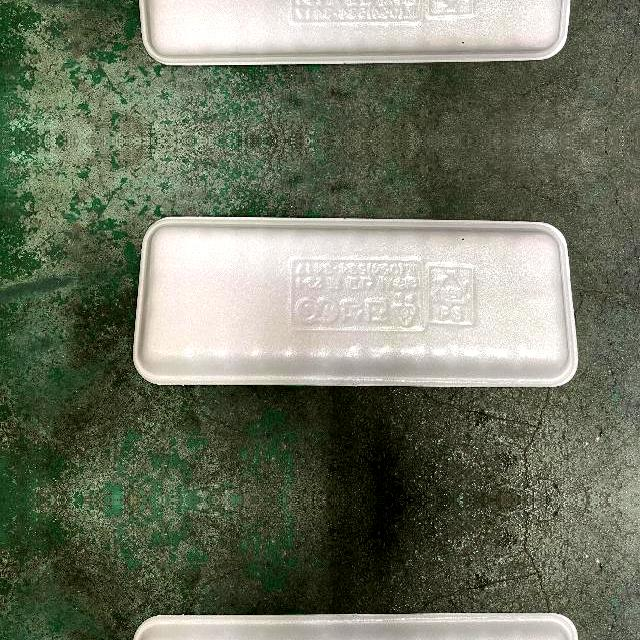Styrofoam: (135, 218, 578, 386), (134, 0, 577, 62)
